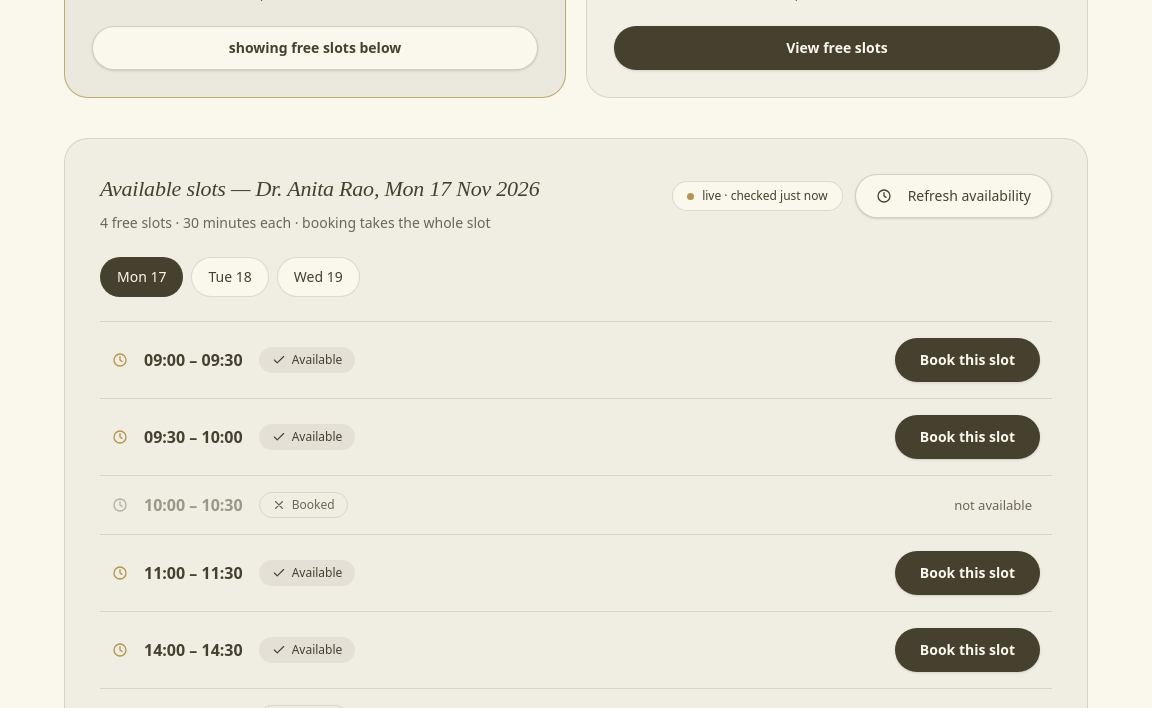
it: FindADoctor › [AC-017] a failed POST /me/consent shows an error and the booking does not proceed
This screenshot has width=1152, height=708.
(page scrolled)
Click the button "Book this slot" in the row of "09:00".
click(967, 360)  # box [895, 338, 1040, 382]
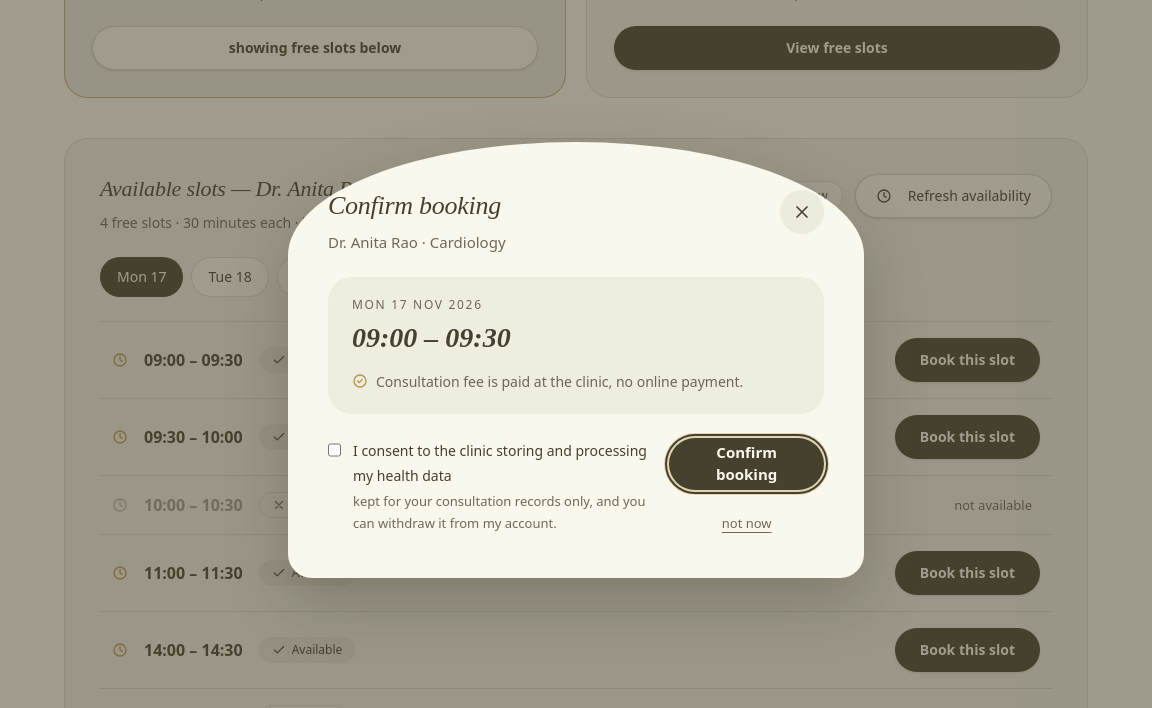
expect the heading "Confirm booking" is shown: met, box [328, 190, 506, 223]
Click the checkbox labelled "I consent to the clinic storing and processing my health data".
click(334, 450)  # box [328, 442, 341, 458]
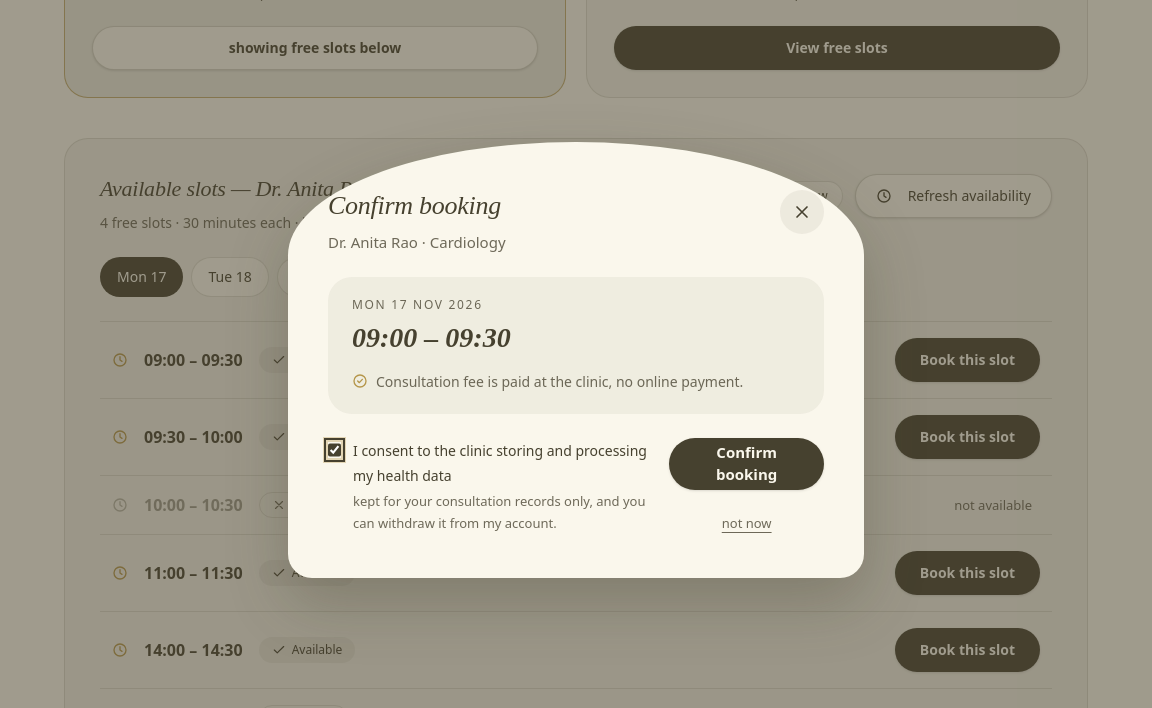
Click the button "Confirm booking".
click(747, 464)  # box [669, 438, 824, 490]
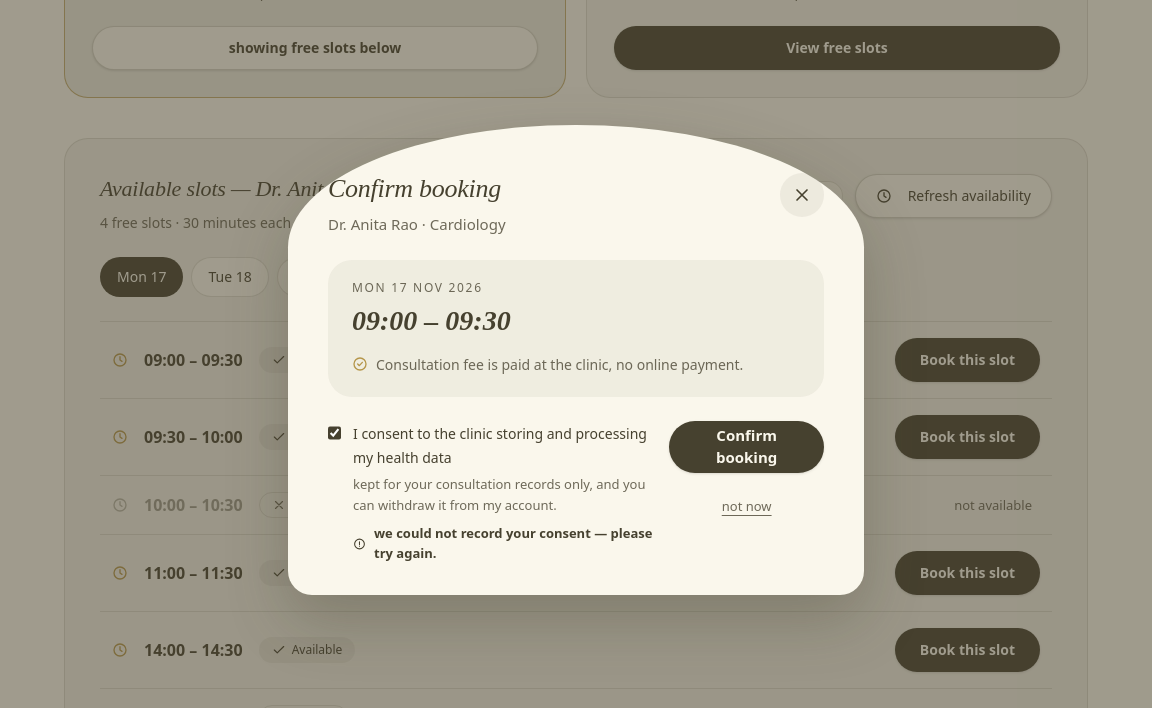
expect the button "Confirm booking" is shown: met, box [669, 420, 824, 472]
expect the text "we could not record your consent — please try again." is shown: met, box [353, 524, 653, 563]
